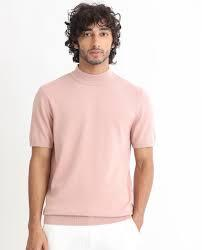tshirt: (26, 64, 158, 226)
